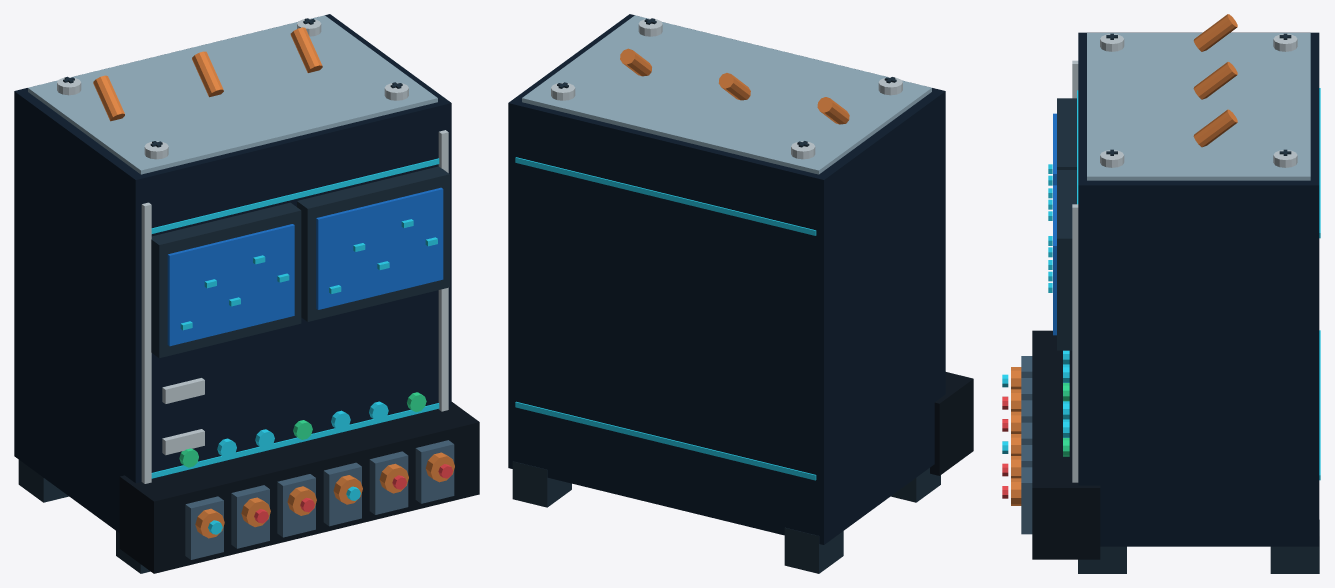
Rendered from 56_L77_DielectricIntegrityAnalyzer.fbx.
The picture shows the model from 3 angles, left to right: view 1: azimuth 30°, elevation 25°; view 2: azimuth 150°, elevation 25°; view 3: azimuth 270°, elevation 25°; orthographic projection.
Parts seen in each view (by area): view 1: DielectricIntegrityAnalyzer; view 2: DielectricIntegrityAnalyzer; view 3: DielectricIntegrityAnalyzer.
Part boxes in pixels (box(x1,y1,x2,y2)): DielectricIntegrityAnalyzer: box(14, 14, 479, 573); DielectricIntegrityAnalyzer: box(508, 14, 973, 573); DielectricIntegrityAnalyzer: box(1002, 14, 1320, 573).
Bounding box in the file's own units: 99 × 126 × 84.56.
